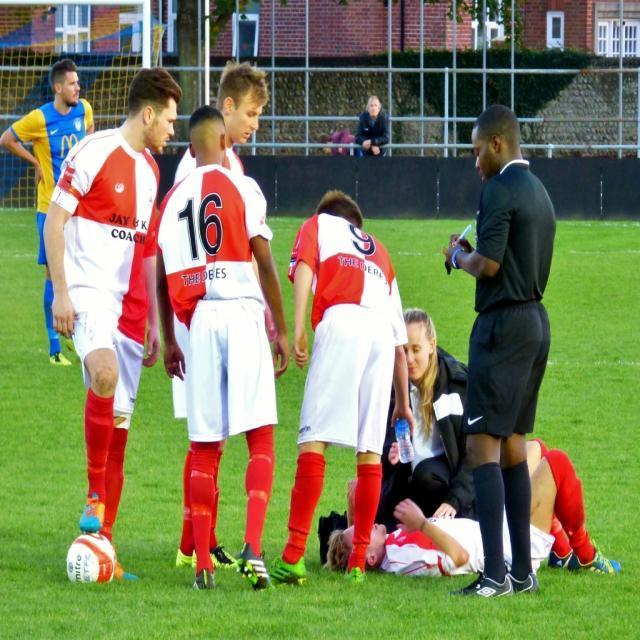football: (72, 524, 122, 585)
